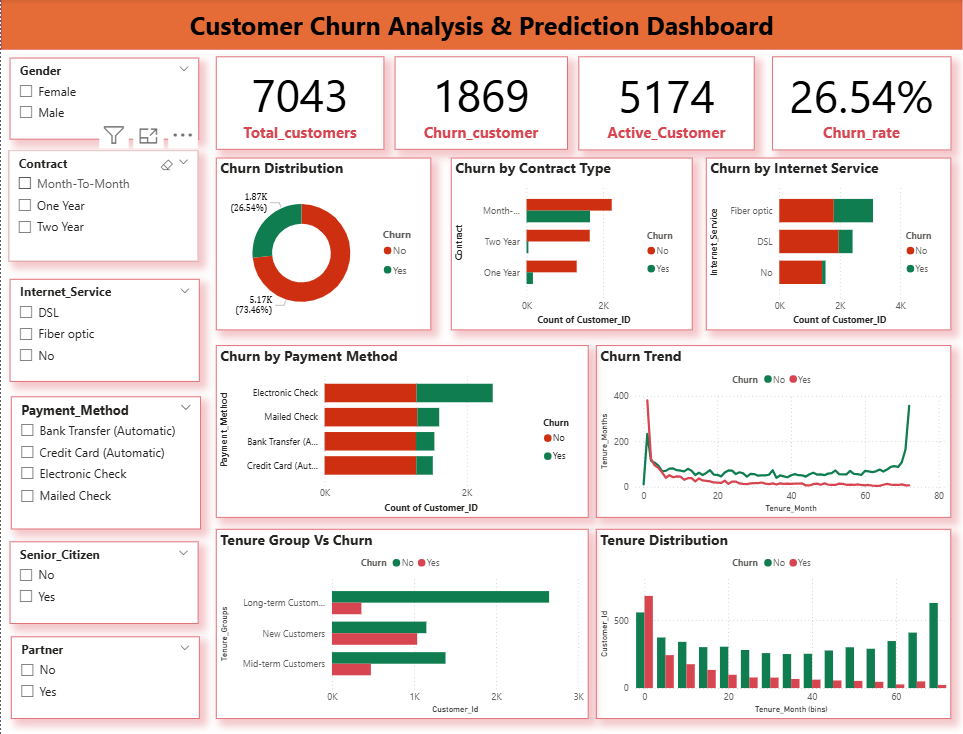

The page's visual inventory and layout, read from the dashboard file:
{"tool":"powerbi","page":{"name":"Page 5","canvas":[1280,980],"ordinal":4},"visuals":[{"type":"shape","box":[0,0,1280,67.6],"z":0},{"type":"slicer","fields":{"Values":["Telco_Customer_Churn_Dataset.Gender"]},"box":[12.2,78.3,251.9,108.8],"z":1000},{"type":"slicer","fields":{"Values":["Telco_Customer_Churn_Dataset.Contract"]},"box":[10,201.4,253,148.1],"z":2000},{"type":"slicer","fields":{"Values":["Telco_Customer_Churn_Dataset.Internet_Service"]},"box":[11.7,372.8,253,136.5],"z":3000},{"type":"slicer","fields":{"Values":["Telco_Customer_Churn_Dataset.Payment_Method"]},"box":[13.3,529.3,253,176.4],"z":4000},{"type":"card","fields":{"Values":["Telco_Customer_Churn_Dataset.Total_customers"]},"box":[285.9,76,224.4,124.3],"z":5000},{"type":"card","fields":{"Values":["Telco_Customer_Churn_Dataset.Churn_customer"]},"box":[523.6,76,230.4,124.3],"z":6000},{"type":"card","fields":{"Values":["Telco_Customer_Churn_Dataset.Active_Customer"]},"box":[769.2,75.8,234.8,124.7],"z":7000},{"type":"card","fields":{"Values":["Telco_Customer_Churn_Dataset.Churn_rate"]},"box":[1027.2,75.8,238.5,124.7],"z":8000},{"type":"donutChart","title":" Churn Distribution","fields":{"Y":["CountNonNull(Telco_Customer_Churn_Dataset.Customer_ID)"],"Category":["Telco_Customer_Churn_Dataset.Churn"]},"box":[286.3,211.4,286.3,229.7],"z":9000},{"type":"clusteredBarChart","title":"Churn by Contract Type","fields":{"Category":["Telco_Customer_Churn_Dataset.Contract"],"Y":["CountNonNull(Telco_Customer_Churn_Dataset.Customer_ID)"],"Series":["Telco_Customer_Churn_Dataset.Churn"]},"box":[599.2,211.4,321.2,229.7],"z":10000},{"type":"clusteredColumnChart","title":"Tenure Distribution","fields":{"Y":["CountNonNull(Telco_Customer_Churn_Dataset.Customer_ID)"],"Series":["Telco_Customer_Churn_Dataset.Churn"],"Category":["Telco_Customer_Churn_Dataset.Tenure_Month (bins)"]},"box":[792.3,705.7,472.7,253],"z":11000},{"type":"lineChart","title":" Churn Trend ","fields":{"Y":["CountNonNull(Telco_Customer_Churn_Dataset.Customer_ID)"],"Series":["Telco_Customer_Churn_Dataset.Churn"],"Category":["Telco_Customer_Churn_Dataset.Tenure_Month"]},"box":[792.3,461,472.7,229.7],"z":12000},{"type":"clusteredBarChart","title":"Tenure Group Vs Churn","fields":{"Category":["Telco_Customer_Churn_Dataset.Tenure_Groups"],"Y":["CountNonNull(Telco_Customer_Churn_Dataset.Customer_ID)"],"Series":["Telco_Customer_Churn_Dataset.Churn"]},"box":[286.3,705.7,496,253],"z":13000},{"type":"barChart","title":"Churn by Payment Method ","fields":{"Y":["CountNonNull(Telco_Customer_Churn_Dataset.Customer_ID)"],"Series":["Telco_Customer_Churn_Dataset.Churn"],"Category":["Telco_Customer_Churn_Dataset.Payment_Method"]},"box":[286.3,461,496,229.7],"z":14000},{"type":"barChart","title":"Churn by Internet Service ","fields":{"Y":["CountNonNull(Telco_Customer_Churn_Dataset.Customer_ID)"],"Series":["Telco_Customer_Churn_Dataset.Churn"],"Category":["Telco_Customer_Churn_Dataset.Internet_Service"]},"box":[938.7,211.4,326.2,229.7],"z":15000},{"type":"slicer","fields":{"Values":["Telco_Customer_Churn_Dataset.Senior_Citizen"]},"box":[11.7,722.4,251.3,109.9],"z":16000},{"type":"slicer","fields":{"Values":["Telco_Customer_Churn_Dataset.Partner"]},"box":[13.3,848.8,251.3,109.9],"z":17000}]}

Visuals, with their boxes in screenshot pixels (x1, y1, x2, y2), scaled from the page's 1280x980 canvas onto the 963x734 screenshot:
shape: <region>0, 0, 962, 51</region>
slicer - Telco_Customer_Churn_Dataset.Gender: <region>9, 59, 199, 140</region>
slicer - Telco_Customer_Churn_Dataset.Contract: <region>8, 151, 198, 262</region>
slicer - Telco_Customer_Churn_Dataset.Internet_Service: <region>9, 279, 199, 381</region>
slicer - Telco_Customer_Churn_Dataset.Payment_Method: <region>10, 396, 200, 529</region>
card - Telco_Customer_Churn_Dataset.Total_customers: <region>215, 57, 384, 150</region>
card - Telco_Customer_Churn_Dataset.Churn_customer: <region>394, 57, 567, 150</region>
card - Telco_Customer_Churn_Dataset.Active_Customer: <region>579, 57, 755, 150</region>
card - Telco_Customer_Churn_Dataset.Churn_rate: <region>773, 57, 952, 150</region>
" Churn Distribution" donutChart: <region>215, 158, 431, 330</region>
"Churn by Contract Type" clusteredBarChart: <region>451, 158, 692, 330</region>
"Tenure Distribution" clusteredColumnChart: <region>596, 529, 952, 718</region>
" Churn Trend " lineChart: <region>596, 345, 952, 517</region>
"Tenure Group Vs Churn" clusteredBarChart: <region>215, 529, 589, 718</region>
"Churn by Payment Method " barChart: <region>215, 345, 589, 517</region>
"Churn by Internet Service " barChart: <region>706, 158, 952, 330</region>
slicer - Telco_Customer_Churn_Dataset.Senior_Citizen: <region>9, 541, 198, 623</region>
slicer - Telco_Customer_Churn_Dataset.Partner: <region>10, 636, 199, 718</region>
